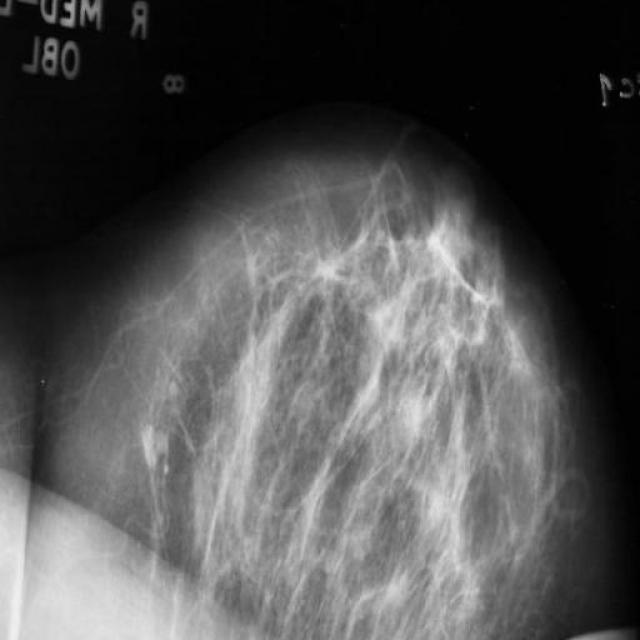cancer: (303, 233, 358, 319)
